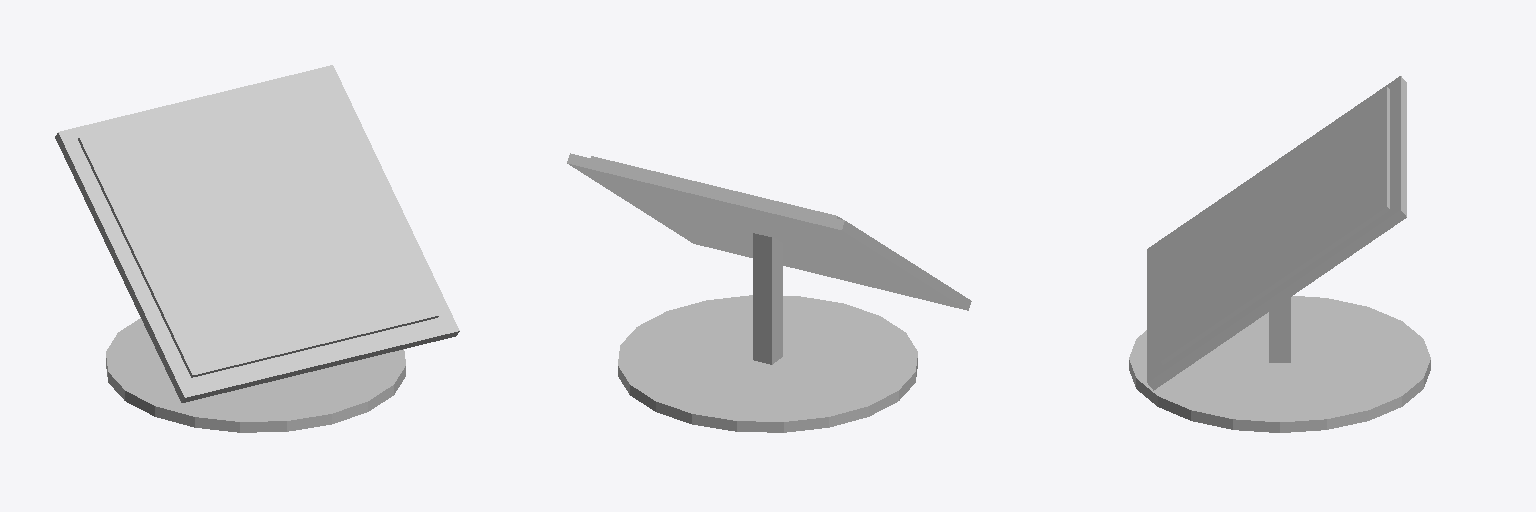
Rendered from Solar_Panel.obj.
The picture shows the model from 3 angles: view 1: azimuth 30°, elevation 25°; view 2: azimuth 150°, elevation 25°; view 3: azimuth 270°, elevation 25°; orthographic projection.
Parts seen in each view (by area): view 1: Panel Solar_Panel, Solar_Panel Panel_Stand; view 2: Solar_Panel Panel_Stand, Panel Solar_Panel; view 3: Solar_Panel Panel_Stand, Panel Solar_Panel.
Part boxes in pixels (x1,y1,x2,y2): Panel Solar_Panel: (78, 77, 438, 377); Solar_Panel Panel_Stand: (55, 65, 459, 432); Solar_Panel Panel_Stand: (567, 153, 971, 432); Panel Solar_Panel: (591, 156, 842, 219); Solar_Panel Panel_Stand: (1129, 76, 1430, 432); Panel Solar_Panel: (1160, 87, 1389, 364).
Size of the model in its own units: 2.1 by 1.66 by 2.